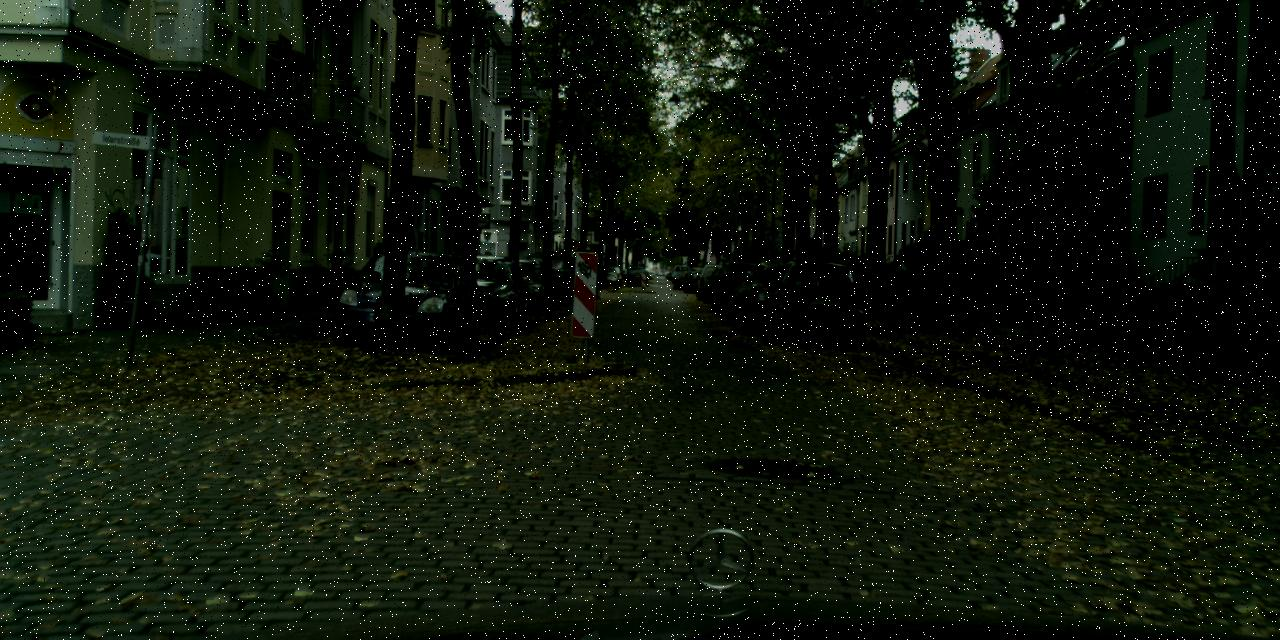ped: (478, 248, 497, 295)
